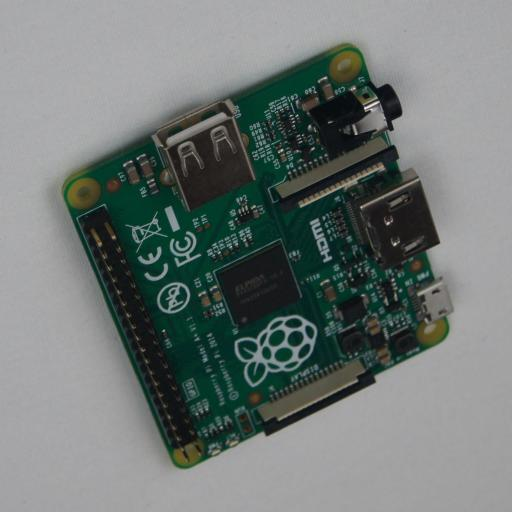Raspberry Pi A-: (61, 44, 449, 468)
